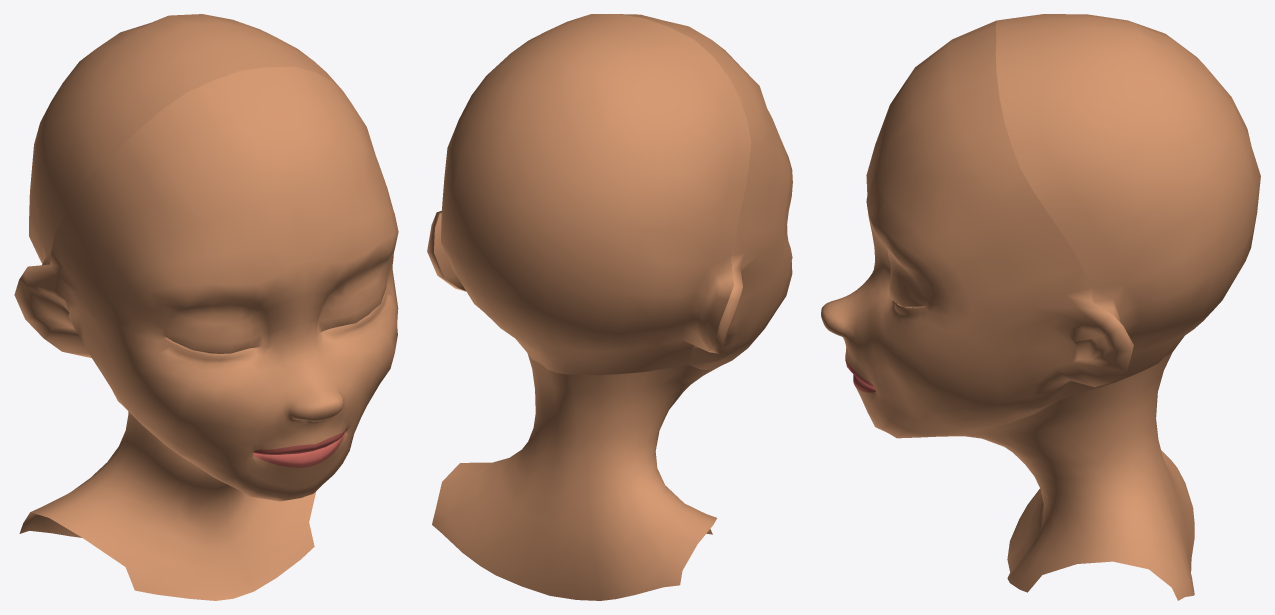
Rendered from HeadToZbrush.obj.
3 renders of one model, left to right at view 1: azimuth 30°, elevation 25°; view 2: azimuth 150°, elevation 25°; view 3: azimuth 270°, elevation 25°, orthographic. The views are drawn at different scales.
Visible parts, largest first — view 1: Mesh_Face01 Head_Grp Mesh; view 2: Mesh_Face01 Head_Grp Mesh; view 3: Mesh_Face01 Head_Grp Mesh.
Boxes of the visible parts, x1,y1,x2,y2 form: Mesh_Face01 Head_Grp Mesh: (14, 14, 398, 600); Mesh_Face01 Head_Grp Mesh: (427, 14, 792, 600); Mesh_Face01 Head_Grp Mesh: (821, 14, 1260, 600).
Bounding box in the file's own units: 5.73 × 9.25 × 6.74.
